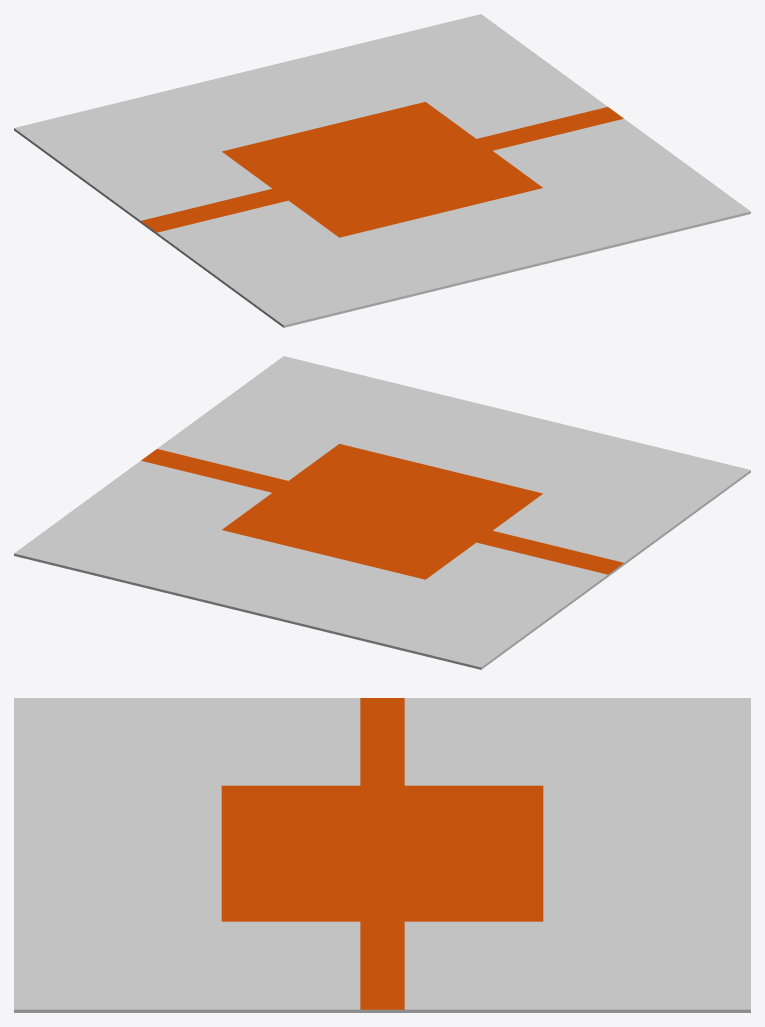
File: S_Floor1_LOD1.fbx
The picture shows the model from 3 angles, top to bottom: view 1: azimuth 30°, elevation 25°; view 2: azimuth 150°, elevation 25°; view 3: azimuth 270°, elevation 25°; orthographic projection. The views are drawn at different scales.
Parts seen in each view (by area): view 1: S_Floor1_LOD1; view 2: S_Floor1_LOD1; view 3: S_Floor1_LOD1.
Boxes of the visible parts, x1,y1,x2,y2 form: S_Floor1_LOD1: (14, 14, 750, 327); S_Floor1_LOD1: (14, 356, 750, 669); S_Floor1_LOD1: (14, 698, 750, 1012).
Size of the model in its own units: 200 by 200 by 1.
